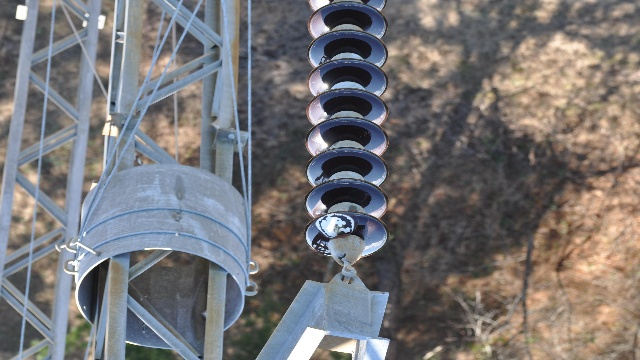insulator_unspecified: (303, 0, 388, 258)
pollution_flashover_local: (314, 212, 358, 239)
